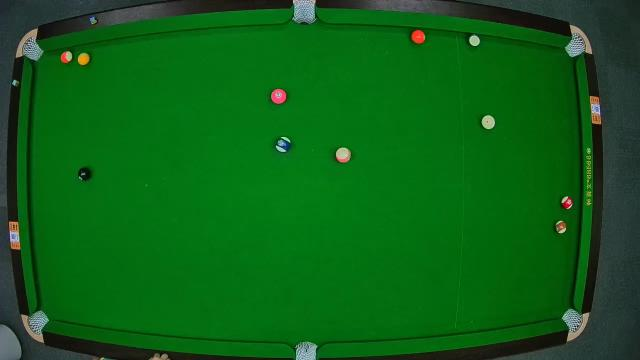bag1: (22, 38, 44, 62)
bag2: (293, 1, 315, 23)
bag3: (566, 34, 586, 57)
bag4: (29, 308, 49, 334)
bag5: (294, 342, 320, 360)
bag6: (562, 310, 582, 332)
ball0: (480, 114, 496, 131)
ball1: (76, 50, 92, 66)
ball10: (274, 136, 290, 152)
ball11: (560, 194, 574, 210)
ball12: (335, 146, 353, 162)
ball13: (60, 50, 74, 63)
ball14: (466, 33, 482, 49)
ball15: (556, 219, 568, 235)
ball4: (269, 88, 287, 105)
ball5: (410, 29, 426, 44)
ball8: (76, 167, 94, 181)
